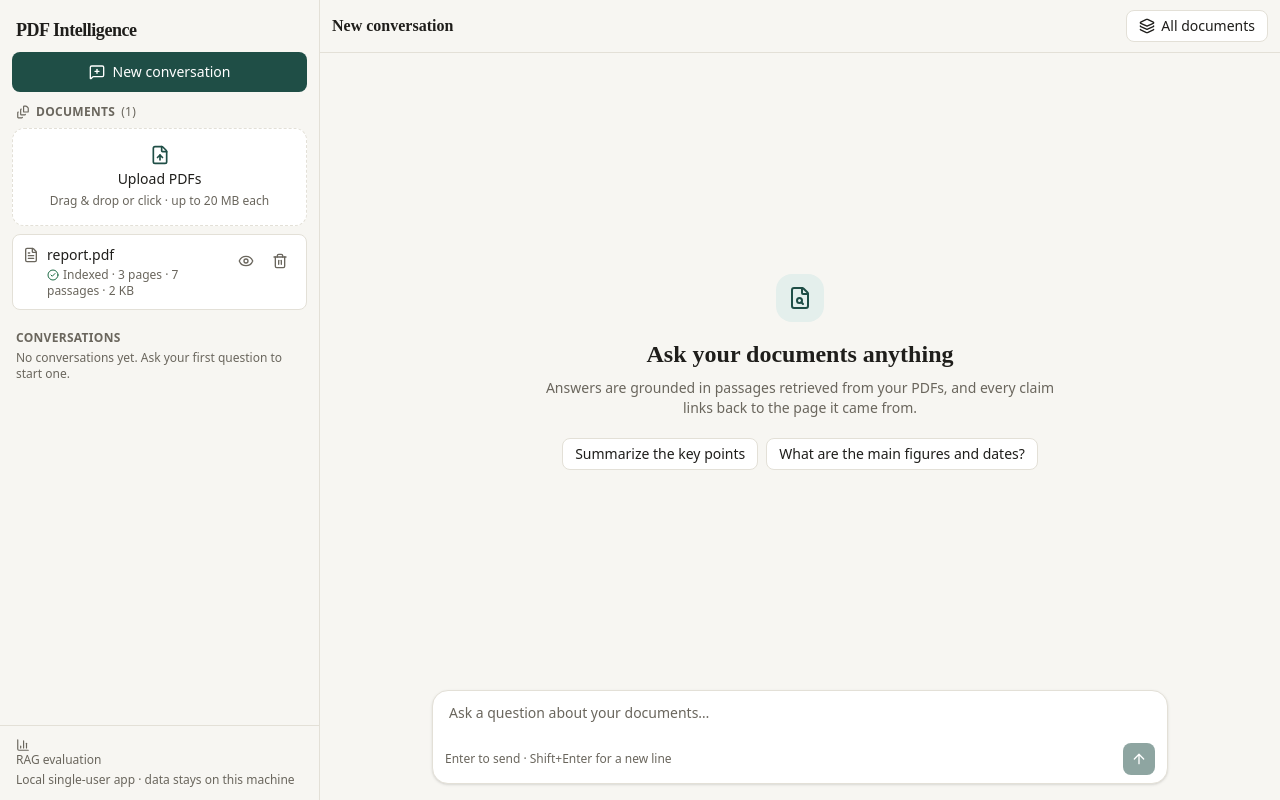
it: Workspace › renders insufficient-evidence answers without citations
expect the text "Indexed · 3 pages · 7 passages · 2 KB" is shown: met, box [47, 266, 178, 299]
Step 1. Type "Who won?" into the text box labelled "Ask a question about your documents" → (800, 717), box [433, 691, 1167, 743]
Then press Enter
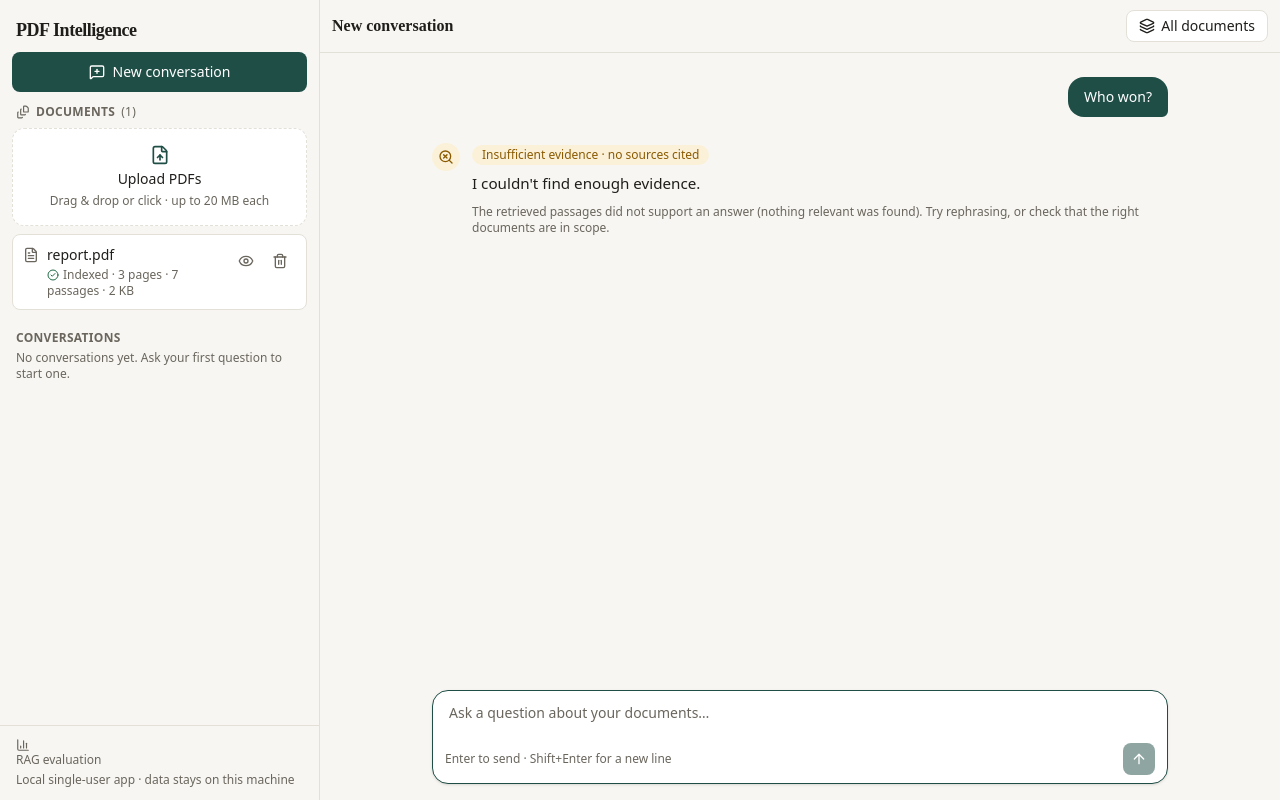
expect the text "Insufficient evidence · no sources cited" is shown: met, box [472, 145, 709, 165]
